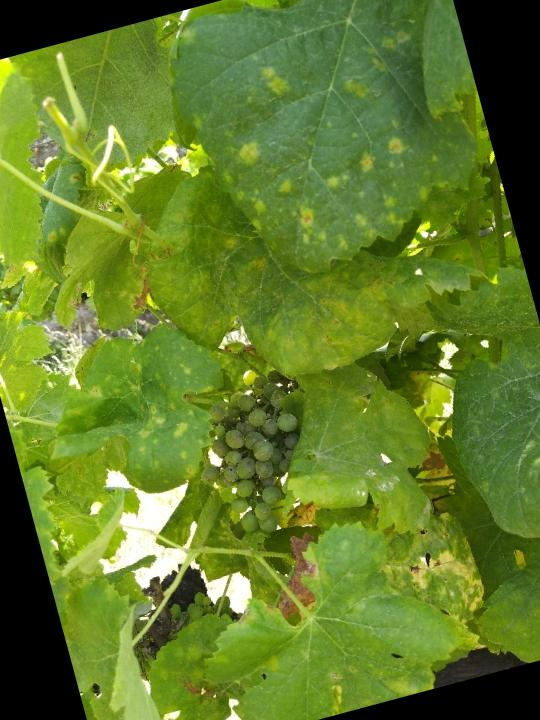grape: (174, 358, 328, 551)
